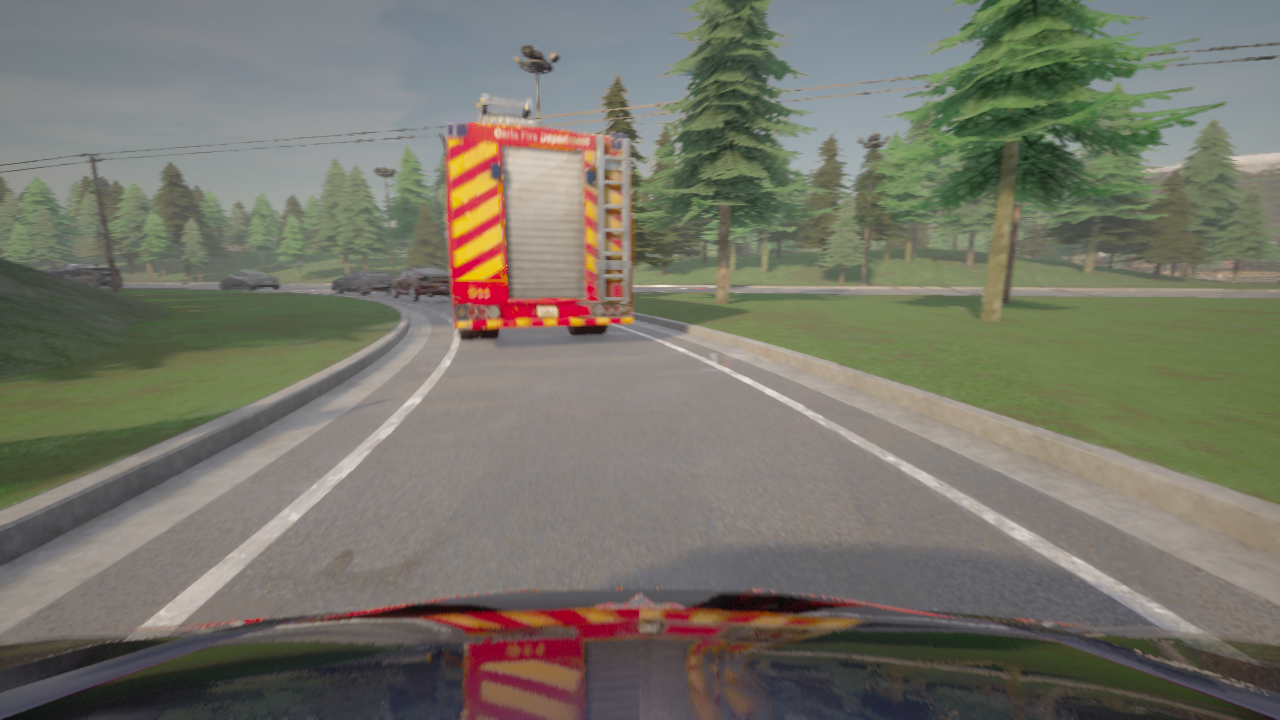cyclist: (0, 588, 1279, 719), (441, 94, 632, 340), (391, 266, 451, 301), (332, 270, 394, 295), (220, 271, 280, 290), (65, 270, 122, 287), (46, 264, 118, 277)
